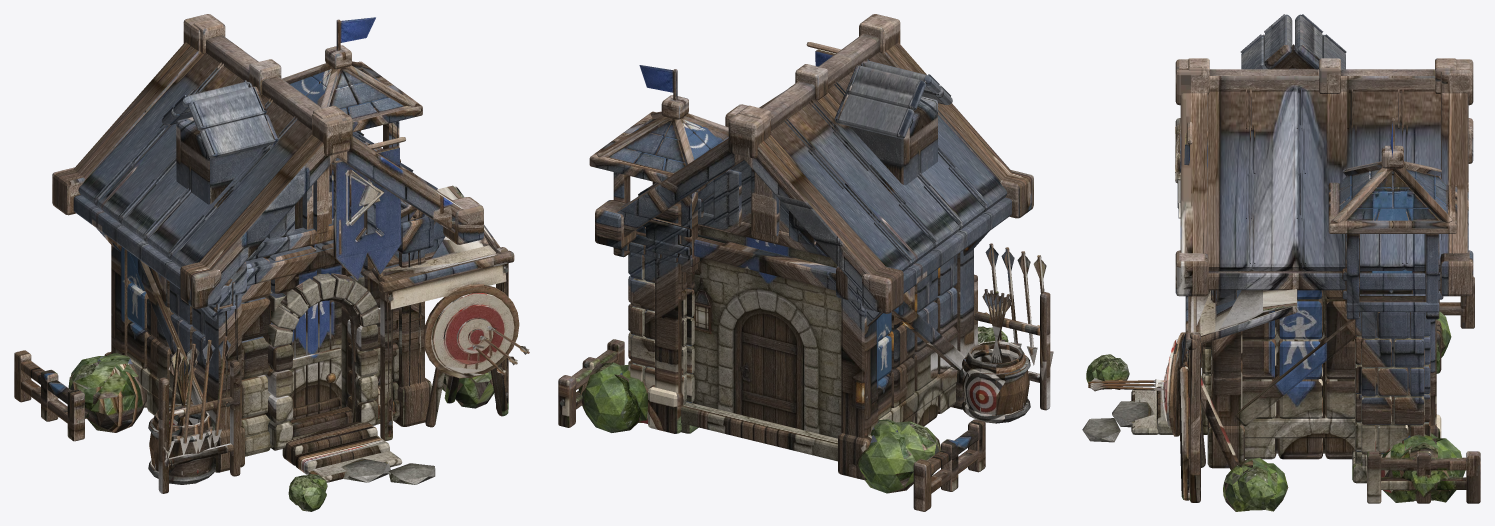
The model's file is archery_range.glb.
The picture shows the model from 3 angles, left to right: view 1: azimuth 30°, elevation 25°; view 2: azimuth 150°, elevation 25°; view 3: azimuth 270°, elevation 25°; orthographic projection. The views are drawn at different scales.
Parts seen in each view (by area): view 1: Carved roof verge, Cloth heraldic banner, Linen work canopy, Carved roof verge.002, Dormer body, Carved roof verge.001, Corner upright, Ridge timber, Leaf cluster.004, Roof eave, Target ring.006, Corner upright.002 (+82 smaller); view 2: Cottage walls, Carved roof verge.001, Corner upright.001, Corner upright.003, Wall cross beam.001, Carved roof verge.003, Dormer body, Wall cross beam.003, Open barrel staves.001, Ridge timber, Leaf cluster.007, Leaf cluster.011 (+62 smaller); view 3: Ridge timber, Carved roof verge.002, Roof eave.001, Carved roof verge.003, Linen work canopy, Soft edged blue roof tile.037, Corner upright.002, Side wall diagonal.001, Soft edged blue roof tile.036, Soft edged blue roof tile.027, Soft edged blue roof tile.032, Soft edged blue roof tile.028 (+79 smaller).
Part boxes in pixels (<box>): Carved roof verge: <box>199,134,338,288</box>; Cloth heraldic banner: <box>333,146,401,280</box>; Linen work canopy: <box>382,185,506,309</box>; Carved roof verge.002: <box>337,136,462,233</box>; Dormer body: <box>176,117,262,204</box>; Carved roof verge.001: <box>73,42,199,178</box>; Corner upright: <box>205,294,241,430</box>; Ridge timber: <box>206,35,322,129</box>; Leaf cluster.004: <box>87,371,146,432</box>; Roof eave: <box>73,194,180,288</box>; Target ring.006: <box>431,293,514,373</box>; Corner upright.002: <box>395,201,424,387</box>; Cottage walls: <box>690,225,841,438</box>; Carved roof verge.001: <box>743,136,884,292</box>; Corner upright.001: <box>841,298,878,437</box>; Corner upright.003: <box>655,203,685,393</box>; Wall cross beam.001: <box>681,402,837,461</box>; Carved roof verge.003: <box>617,138,744,236</box>; Dormer body: <box>850,96,937,185</box>; Wall cross beam.003: <box>694,234,836,290</box>; Open barrel staves.001: <box>962,350,1029,423</box>; Ridge timber: <box>734,34,879,146</box>; Leaf cluster.007: <box>856,431,914,493</box>; Leaf cluster.011: <box>582,374,640,432</box>; Ridge timber: <box>1209,69,1434,93</box>; Carved roof verge.002: <box>1180,93,1207,253</box>; Roof eave.001: <box>1208,270,1440,290</box>; Carved roof verge.003: <box>1441,93,1468,253</box>; Linen work canopy: <box>1187,289,1297,364</box>; Soft edged blue roof tile.037: <box>1252,214,1302,270</box>; Corner upright.002: <box>1212,290,1242,425</box>; Side wall diagonal.001: <box>1235,319,1354,426</box>; Soft edged blue roof tile.036: <box>1207,214,1252,270</box>; Soft edged blue roof tile.027: <box>1252,124,1302,176</box>; Soft edged blue roof tile.032: <box>1248,169,1298,221</box>; Soft edged blue roof tile.028: <box>1303,124,1353,172</box>.
Size of the model in its own units: 4.09 by 3.7 by 3.61.
Materials: 5 (5 with a texture image).
